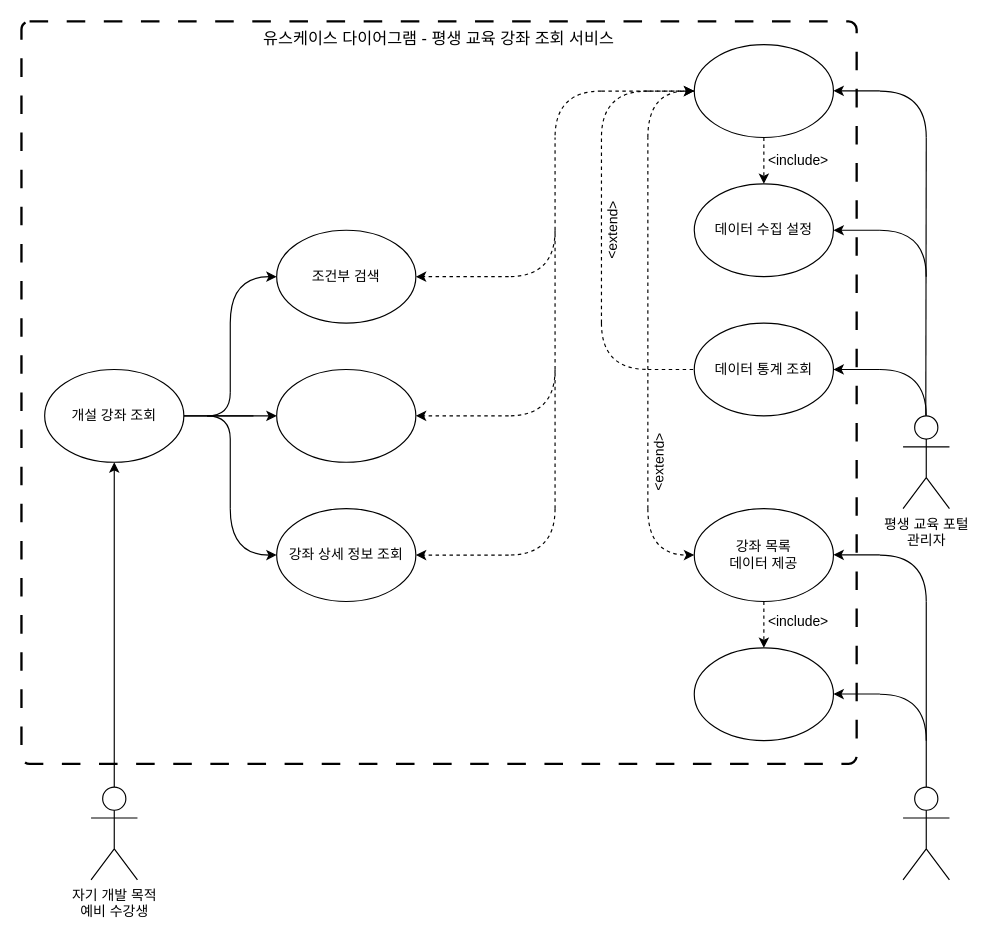
Some shapes in this 993 by 941 pixel diagram are drawn without their labels. Here are the shapes that lost their labels. From the top down, the box of each, then its label:
(693, 44, 833, 137): 데이터 수집
(276, 368, 416, 462): 강좌 필터링
(693, 647, 833, 741): 데이터 관리
(902, 786, 949, 880): 공공 데이터 API
